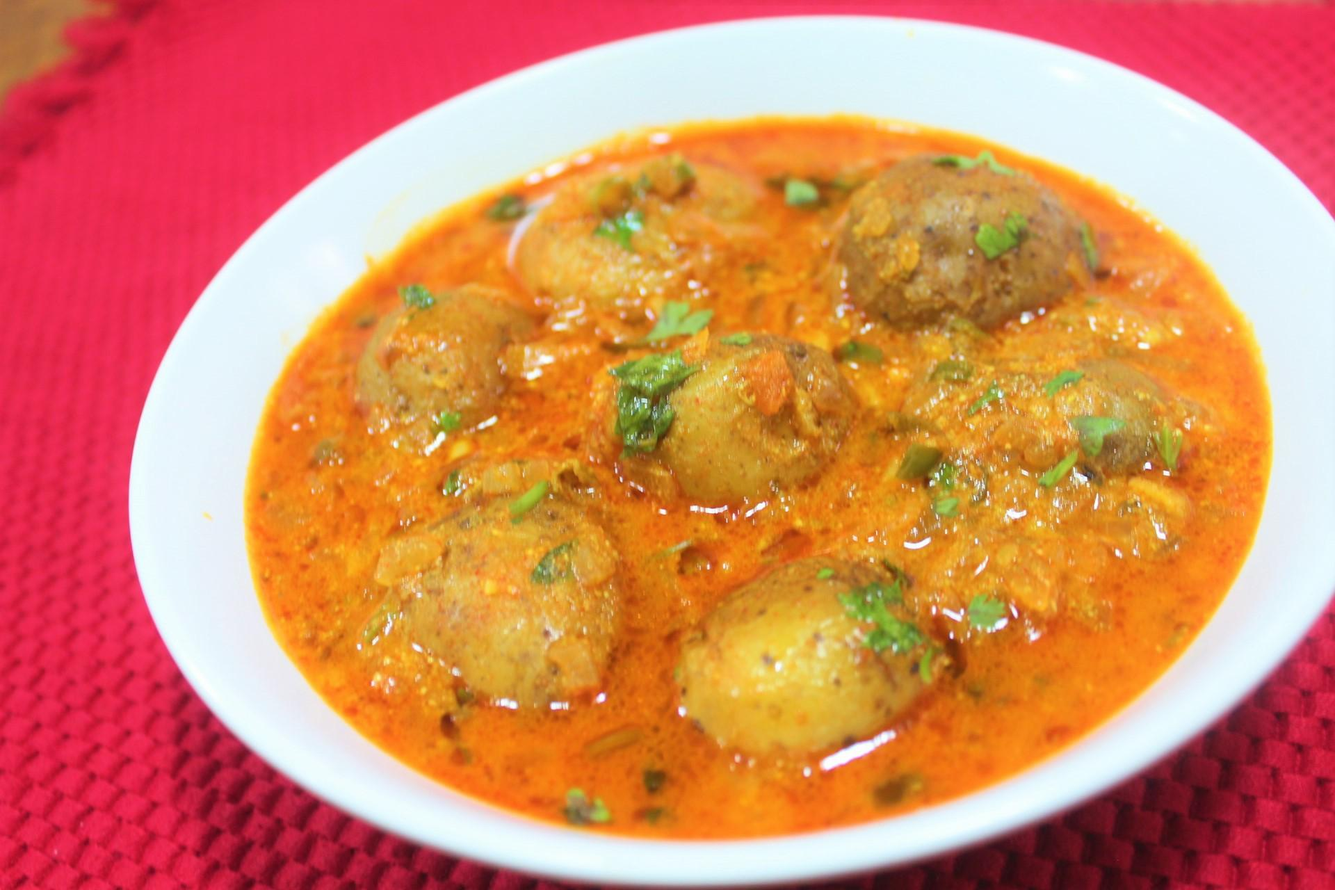DumAloo: (244, 108, 1270, 839)
